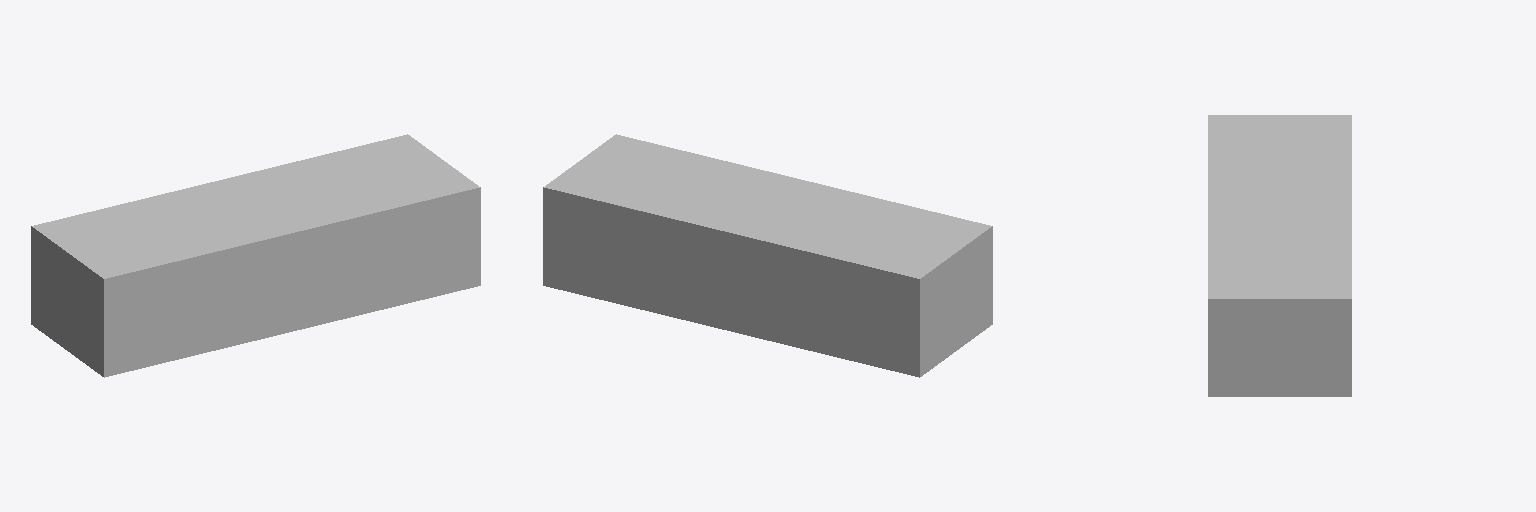
File: Pared.obj
3 renders of one model, left to right at view 1: azimuth 30°, elevation 25°; view 2: azimuth 150°, elevation 25°; view 3: azimuth 270°, elevation 25°, orthographic.
Visible parts, largest first — view 1: polySurface17 Start_piso22; view 2: polySurface17 Start_piso22; view 3: polySurface17 Start_piso22.
Part boxes in pixels (x1,y1,x2,y2): polySurface17 Start_piso22: (31,134,480,377); polySurface17 Start_piso22: (543,134,992,377); polySurface17 Start_piso22: (1208,115,1351,396).
Size of the model in its own units: 144 by 36 by 48.